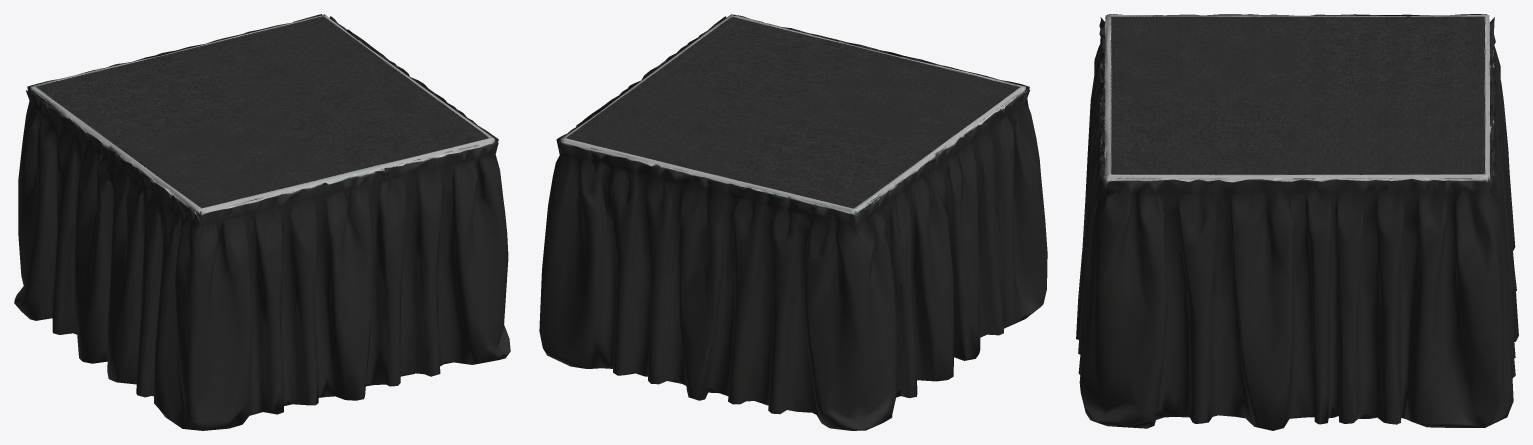
Rendered from portable_stage_riser_3d_model.fbx.
3 views of the same model, side by side, from view 1: azimuth 30°, elevation 25°; view 2: azimuth 150°, elevation 25°; view 3: azimuth 270°, elevation 25° (orthographic). The views are drawn at different scales.
Visible parts, largest first — view 1: tripo_node_f1ad85f0; view 2: tripo_node_f1ad85f0; view 3: tripo_node_f1ad85f0.
Boxes of the visible parts, <box> form: tripo_node_f1ad85f0: <box>14,14,510,430</box>; tripo_node_f1ad85f0: <box>539,14,1047,430</box>; tripo_node_f1ad85f0: <box>1076,14,1518,430</box>.
Size of the model in its own units: 0.9785 by 0.5939 by 0.9812.
